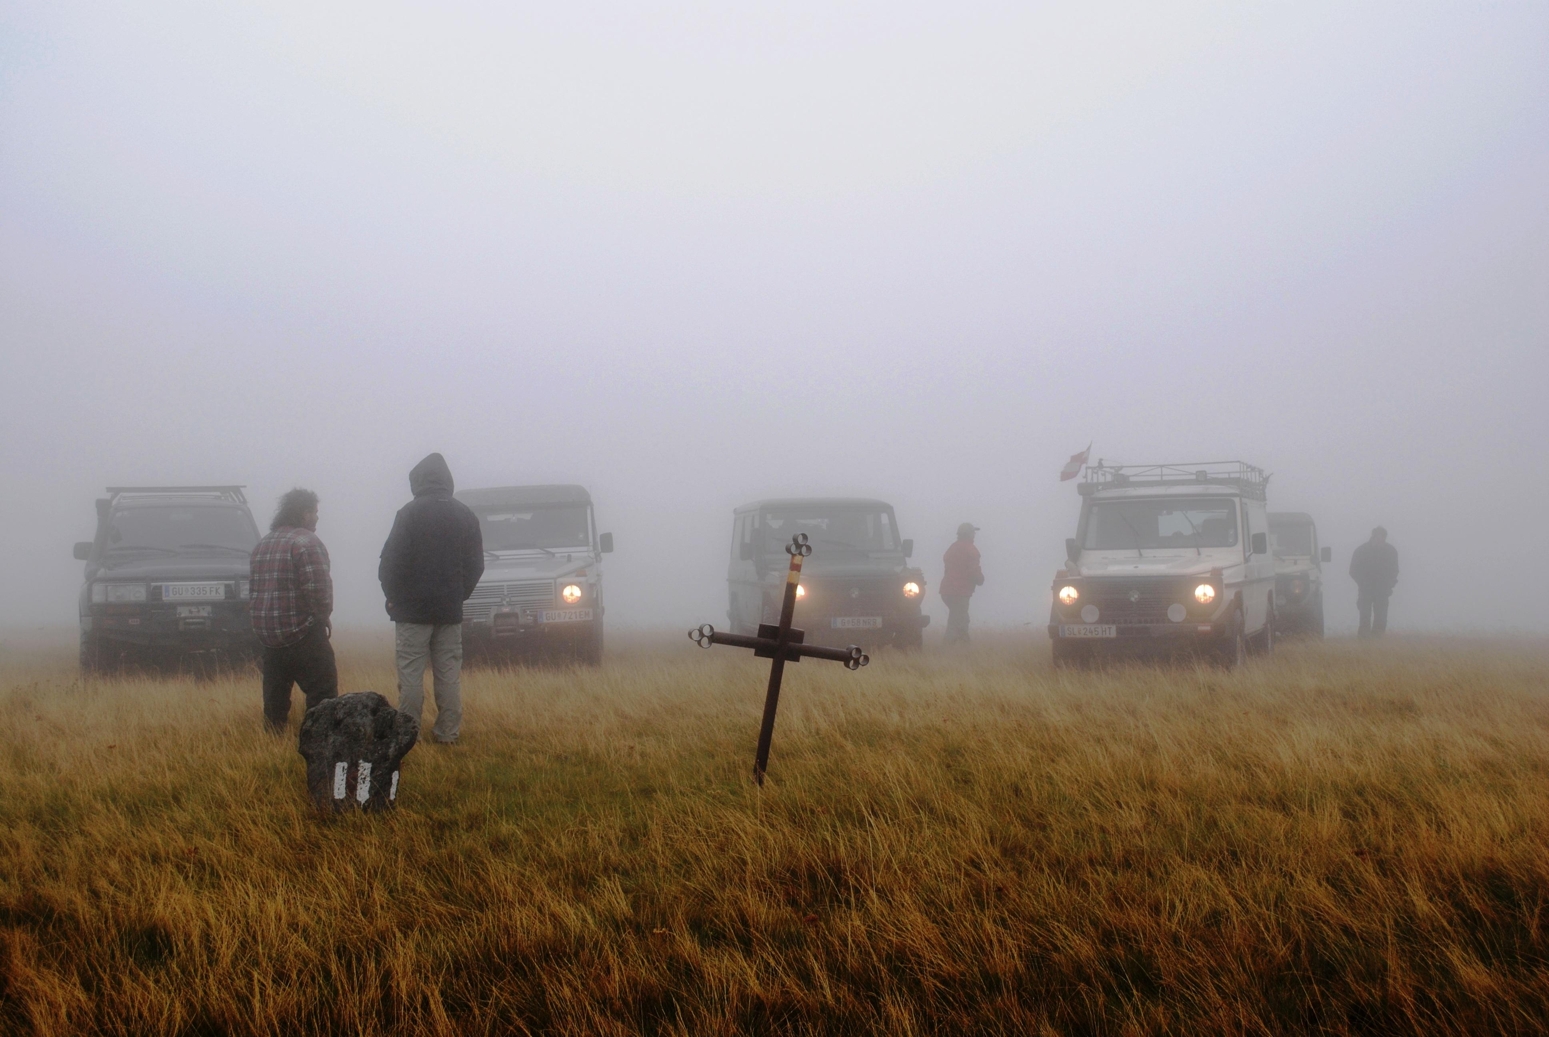airplane: (687, 502, 920, 765), (720, 494, 924, 645), (688, 549, 891, 664), (689, 623, 873, 664)
backpack: (383, 466, 471, 694), (388, 519, 468, 606), (938, 522, 981, 645), (1349, 525, 1395, 639), (943, 534, 974, 612), (1348, 531, 1379, 609), (456, 521, 483, 602), (1354, 534, 1391, 594), (954, 529, 981, 603)
bear: (297, 691, 418, 816)
bench: (83, 487, 258, 682)
bicycle: (1346, 526, 1398, 637)
bird: (298, 690, 415, 819), (1055, 441, 1092, 480), (684, 622, 720, 650)
boat: (691, 505, 919, 779), (75, 482, 268, 687), (721, 496, 925, 646)
bus: (131, 471, 617, 681), (691, 505, 919, 779), (1048, 453, 1306, 665), (368, 461, 569, 695), (73, 481, 260, 680), (436, 476, 608, 665), (711, 495, 927, 645), (384, 451, 488, 749), (688, 549, 891, 664)
car: (394, 484, 858, 729), (131, 471, 617, 681), (46, 488, 436, 696), (680, 498, 925, 751), (352, 456, 604, 693), (1048, 453, 1306, 665), (73, 483, 261, 680), (393, 469, 531, 715), (711, 495, 927, 645), (458, 480, 605, 669), (917, 505, 1049, 632), (687, 626, 868, 668), (1266, 513, 1322, 639), (1271, 562, 1318, 637), (1047, 536, 1080, 631)
cat: (297, 691, 418, 814)
clock: (721, 496, 909, 648)
cow: (298, 690, 415, 819)
dog: (297, 601, 410, 794), (296, 692, 418, 815), (360, 701, 417, 808), (259, 678, 305, 733)
fire hydrant: (1347, 524, 1392, 638)
frisbee: (296, 683, 418, 820)
handbag: (297, 691, 418, 814), (938, 522, 981, 645), (1349, 529, 1396, 626), (943, 534, 974, 612), (1354, 534, 1391, 594), (1369, 538, 1396, 617), (935, 533, 964, 600), (955, 536, 981, 610), (458, 530, 483, 600)
horse: (298, 687, 414, 821), (1348, 525, 1393, 638)
kite: (1056, 443, 1091, 481)
motorcycle: (1346, 526, 1398, 637)
person: (693, 510, 923, 790), (249, 471, 463, 739), (365, 469, 549, 715), (117, 481, 287, 698), (349, 494, 466, 789), (384, 449, 487, 753), (448, 480, 600, 667), (243, 489, 336, 737), (298, 687, 414, 821), (1270, 528, 1323, 643), (1347, 525, 1396, 639), (938, 522, 982, 646), (922, 533, 963, 647), (892, 562, 927, 648), (778, 532, 810, 623), (1048, 536, 1080, 618), (953, 524, 982, 596), (963, 566, 988, 637), (1182, 509, 1227, 540), (1160, 507, 1202, 538), (781, 530, 810, 573), (1054, 535, 1082, 579)
sheep: (295, 691, 417, 816)
skateboard: (686, 621, 814, 657), (1370, 559, 1398, 634)
teddy bear: (298, 691, 418, 816)
train: (278, 468, 624, 683), (249, 471, 463, 739), (720, 494, 924, 645), (688, 549, 891, 664), (685, 610, 880, 665)
truck: (223, 474, 795, 733), (69, 473, 570, 680), (383, 461, 831, 664), (670, 468, 1017, 656), (680, 498, 925, 751), (1045, 454, 1312, 663), (375, 456, 576, 717), (73, 483, 266, 679), (436, 476, 608, 665), (711, 495, 927, 645), (384, 451, 488, 749), (781, 502, 1015, 628), (688, 549, 891, 664), (917, 505, 1049, 632), (1267, 514, 1323, 640)
umbrella: (360, 452, 480, 772), (297, 691, 418, 814)
